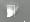person: (9, 3, 19, 17)
